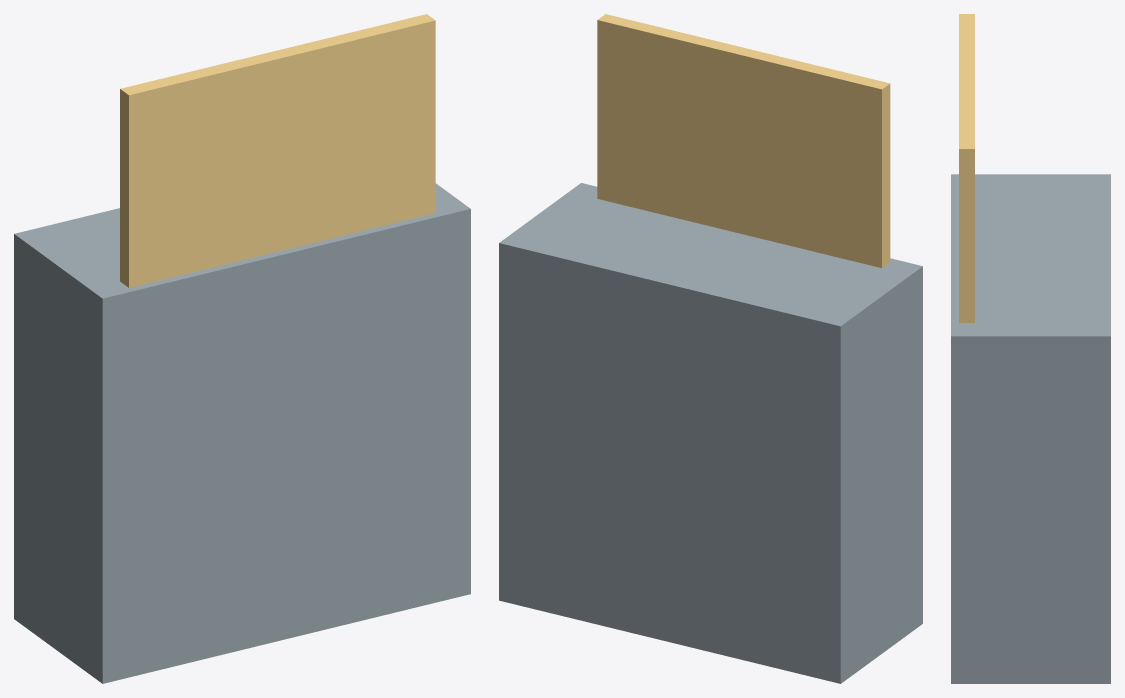
File: warden-terminal.glb
The picture shows the model from 3 angles, left to right: view 1: azimuth 30°, elevation 25°; view 2: azimuth 150°, elevation 25°; view 3: azimuth 270°, elevation 25°; orthographic projection. The views are drawn at different scales.
Visible parts, largest first — view 1: WardenTerminal, WardenScreen; view 2: WardenTerminal, WardenScreen; view 3: WardenTerminal, WardenScreen.
Part boxes in pixels (x1,y1,x2,y2): WardenTerminal: (14, 183, 470, 683); WardenScreen: (120, 14, 435, 287); WardenTerminal: (499, 183, 922, 683); WardenScreen: (597, 14, 890, 267); WardenTerminal: (951, 174, 1110, 683); WardenScreen: (959, 14, 974, 322).
Size of the model in its own units: 1.2 by 1.8 by 0.5.
